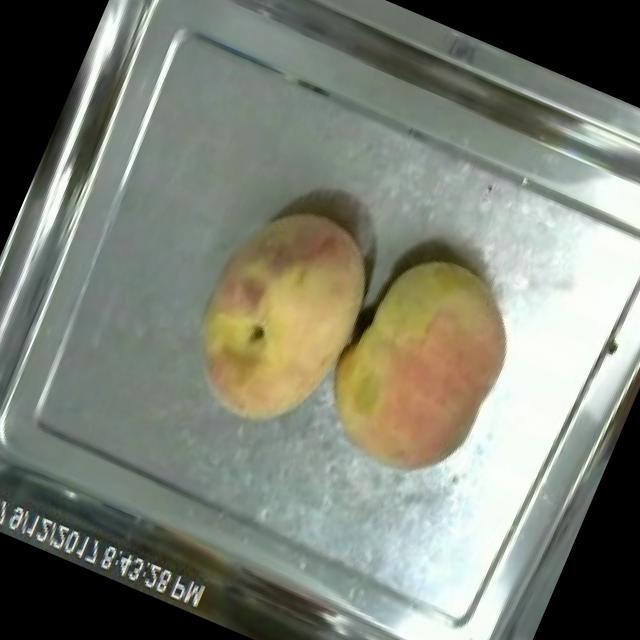Fruit: (298, 227, 544, 503), (163, 178, 403, 452)
